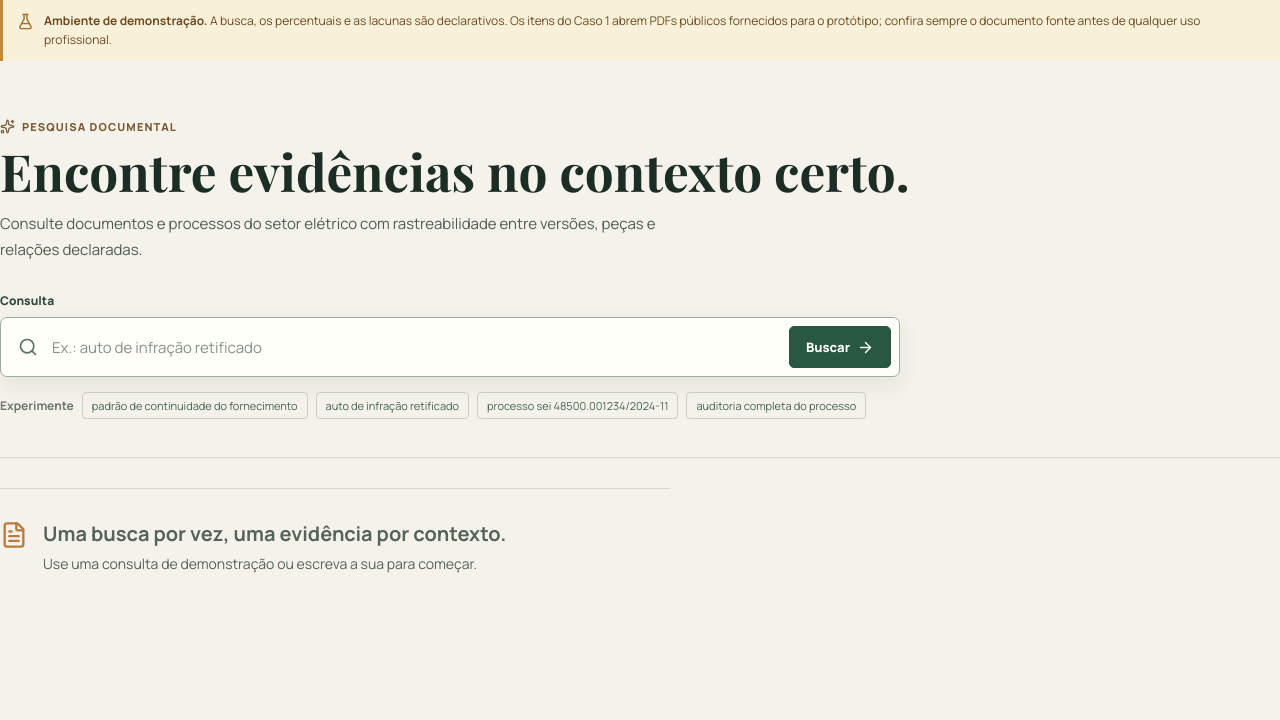
SearchPage › envia POST /v1/feedback com request_id, a chave do chunk (document_version + chunk_index) e o voto ao clicar 👍
Click the button "auto de infração retificado" at (392, 406), box [316,392,469,420]
(page scrolled)
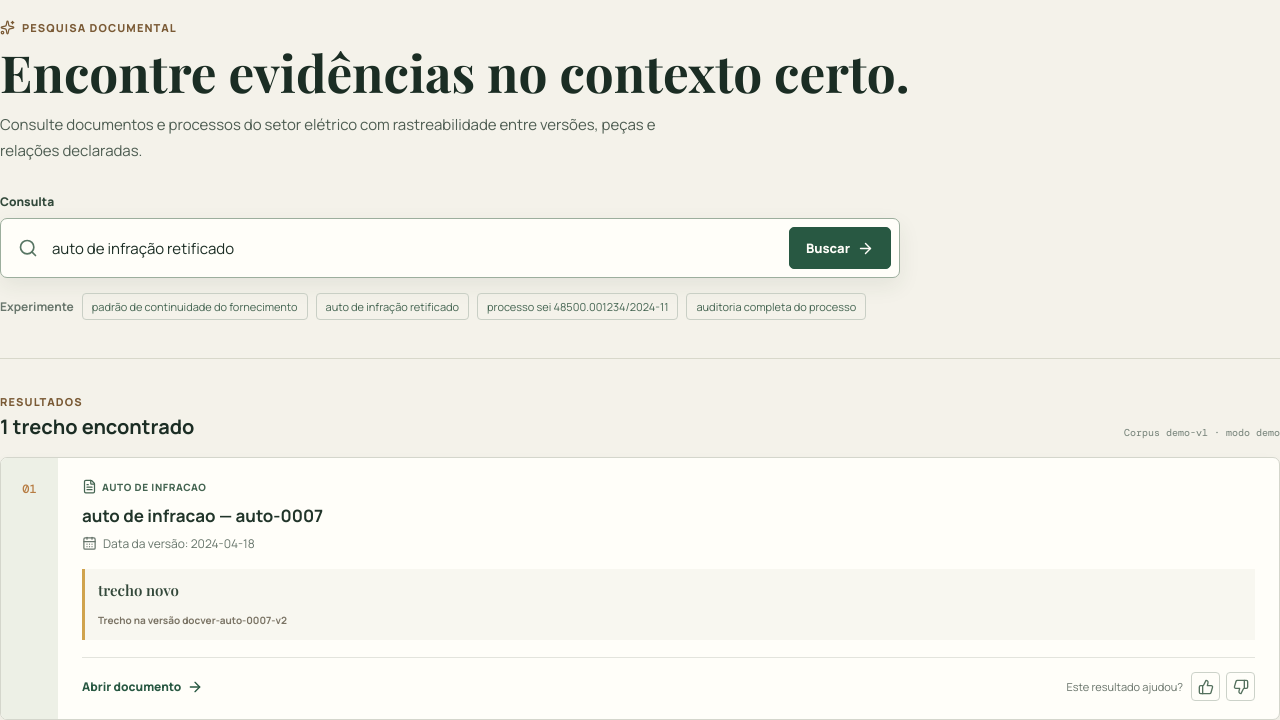
Expected: the button named "votar positivamente" is shown
Click the button named "votar positivamente" at (1206, 687), box [1191,672,1220,701]
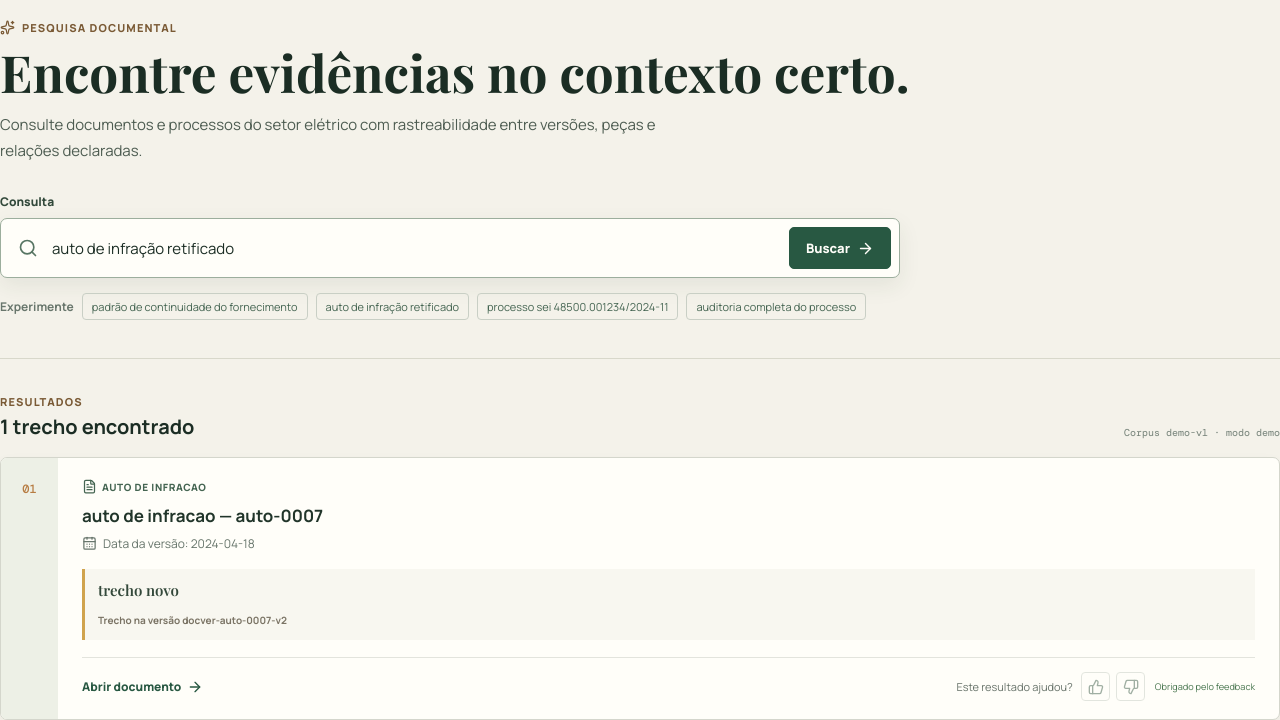
Expected: the text "Obrigado pelo feedback" is shown, [1155,680,1255,693]
Expected: the button named "votar positivamente" is disabled, [1081,672,1110,701]
Expected: the button named "votar negativamente" is disabled, [1116,672,1145,701]
